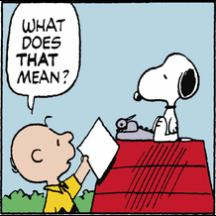charlie: (10, 115, 92, 215)
snoopy: (132, 52, 200, 142)
